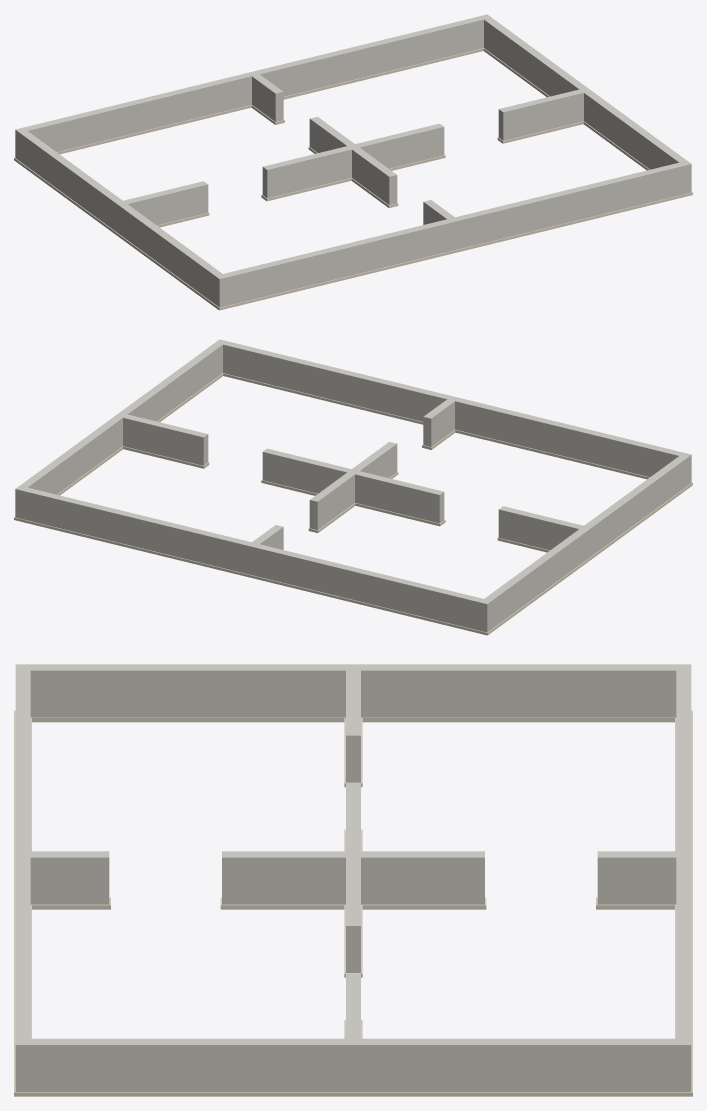
Rendered from house.glb.
3 renders of one model, top to bottom at view 1: azimuth 30°, elevation 25°; view 2: azimuth 150°, elevation 25°; view 3: azimuth 270°, elevation 25°, orthographic. The views are drawn at different scales.
Visible parts, largest first — view 1: House; view 2: House; view 3: House.
Part boxes in pixels (x1=…): House: x1=14, y1=14, x2=692, y2=310; House: x1=14, y1=339, x2=692, y2=635; House: x1=14, y1=664, x2=692, y2=1096.
Bounding box in the file's own units: 24.08 × 1.5 × 18.08.
